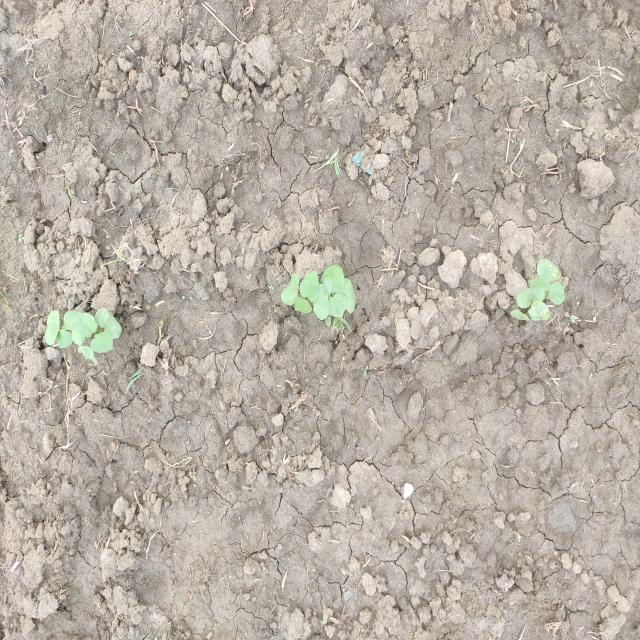seedling: (95, 308, 121, 339), (64, 310, 86, 345), (516, 285, 544, 309), (322, 264, 345, 293), (300, 270, 320, 302), (76, 311, 98, 338), (44, 310, 60, 346), (281, 273, 299, 305), (313, 284, 329, 320), (89, 331, 114, 353), (341, 276, 355, 314), (537, 259, 560, 282), (328, 292, 346, 319), (528, 301, 550, 321), (548, 282, 566, 305), (527, 276, 550, 292), (78, 346, 98, 364), (294, 296, 312, 314), (56, 329, 72, 349), (319, 277, 333, 297), (510, 310, 529, 321)
